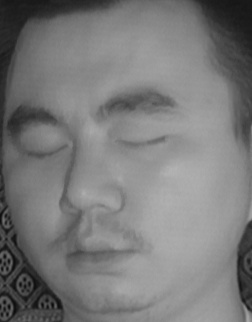blink: (115, 124, 172, 161), (20, 133, 72, 169)
mouth: (56, 223, 145, 281)
